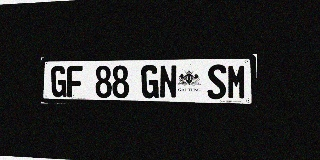8: (95, 65, 112, 98), (112, 65, 129, 98)
F: (67, 66, 83, 97)
G: (141, 65, 159, 98), (51, 66, 66, 97)
M: (227, 64, 247, 100)
N: (159, 65, 177, 99)
S: (207, 64, 226, 99)
